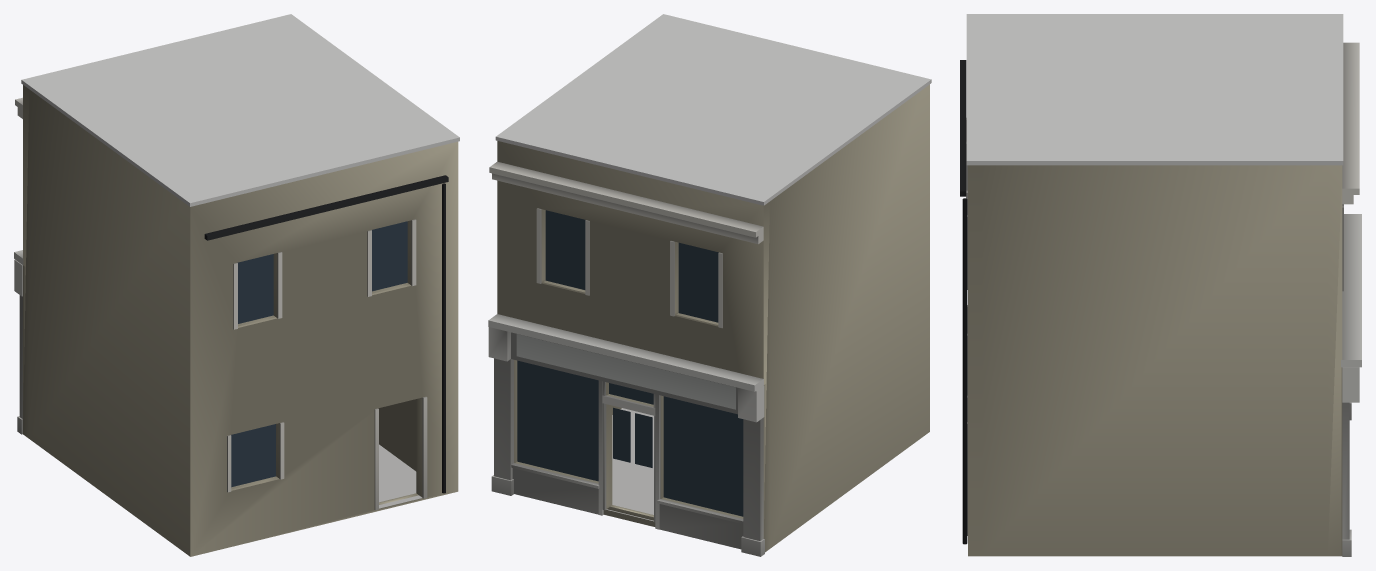
File: pharmacy_lod1.glb
3 renders of one model, left to right at view 1: azimuth 30°, elevation 25°; view 2: azimuth 150°, elevation 25°; view 3: azimuth 270°, elevation 25°, orthographic. The views are drawn at different scales.
Parts seen in each view (by area): view 1: pharmacy_lod1; view 2: pharmacy_lod1; view 3: pharmacy_lod1.
Boxes of the visible parts, x1,y1,x2,y2 form: pharmacy_lod1: (14, 14, 459, 556); pharmacy_lod1: (488, 14, 931, 556); pharmacy_lod1: (960, 14, 1361, 556).
Size of the model in its own units: 6.06 by 7.58 by 6.98.
